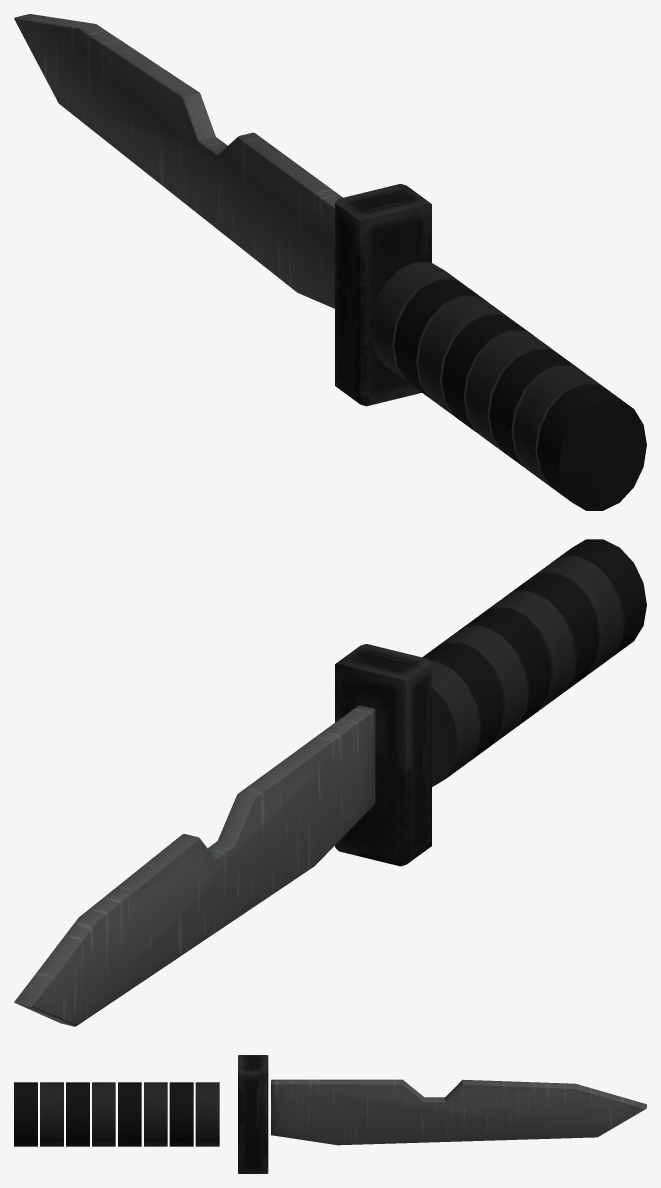
The model's file is knife_gut.glb.
3 renders of one model, top to bottom at view 1: azimuth 30°, elevation 25°; view 2: azimuth 150°, elevation 25°; view 3: azimuth 270°, elevation 25°, orthographic. The views are drawn at different scales.
Parts seen in each view (by area): view 1: body_receiver, body_metal, body_furniture; view 2: body_receiver, body_furniture, body_metal; view 3: body_receiver, body_furniture, body_metal.
Part boxes in pixels (box(x1,y1,x2,y2)): body_receiver: box(14, 14, 431, 406); body_metal: box(394, 279, 646, 510); body_furniture: box(370, 262, 609, 485); body_receiver: box(14, 644, 431, 1026); body_furniture: box(431, 556, 622, 786); body_metal: box(422, 539, 646, 762); body_receiver: box(238, 1055, 646, 1173); body_furniture: box(40, 1082, 219, 1146); body_metal: box(14, 1082, 193, 1146).
Size of the model in its own units: 0.0256 by 0.052 by 0.2925.
Materials: 3 (3 with a texture image).
